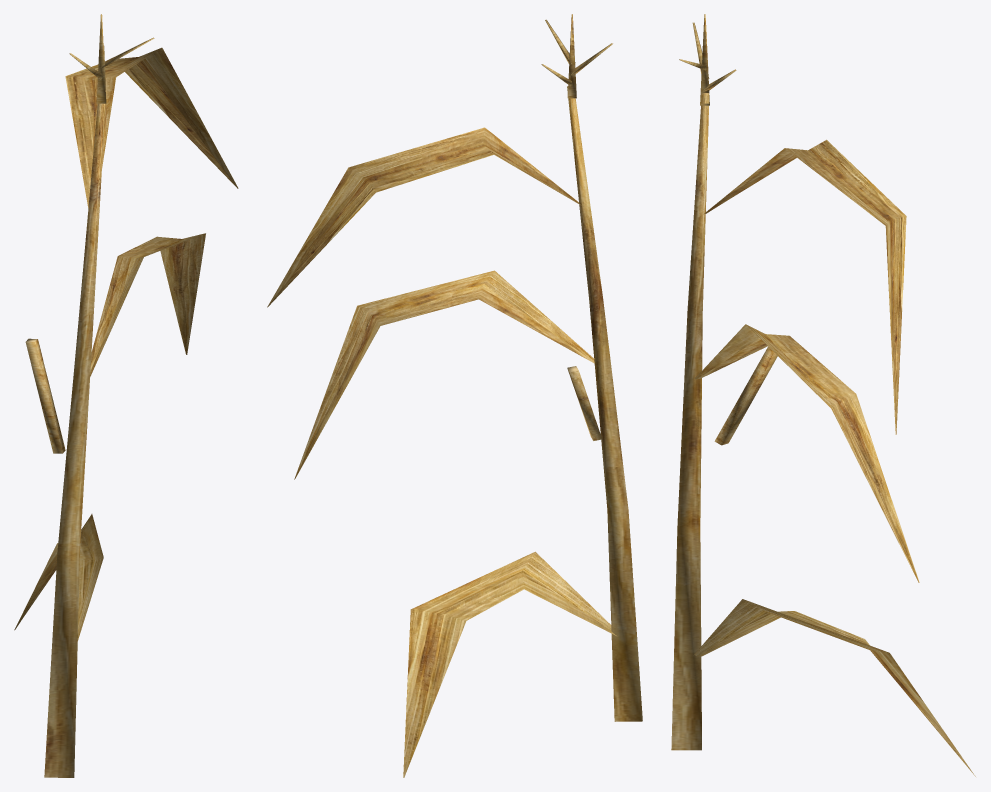
File: Corn_B_Far.fbx
3 views of the same model, side by side, from view 1: azimuth 30°, elevation 25°; view 2: azimuth 150°, elevation 25°; view 3: azimuth 270°, elevation 25° (orthographic). The views are drawn at different scales.
Visible parts, largest first — view 1: Corn_B_Far; view 2: Corn_B_Far; view 3: Corn_B_Far.
Boxes of the visible parts, box(x1,y1,x2,y2) form: Corn_B_Far: box(14, 14, 238, 777); Corn_B_Far: box(267, 14, 642, 777); Corn_B_Far: box(671, 14, 975, 776).
Size of the model in its own units: 3.35 by 8 by 2.92.
1 material, 1 textured.
